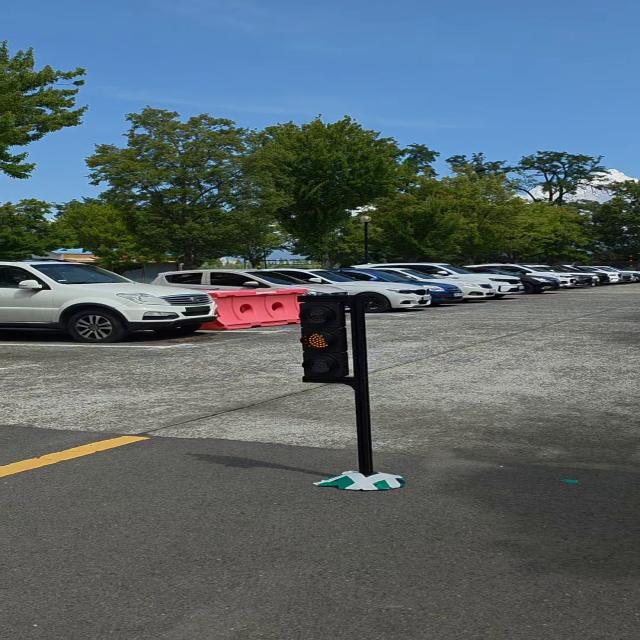yellow: (300, 293, 356, 384)
